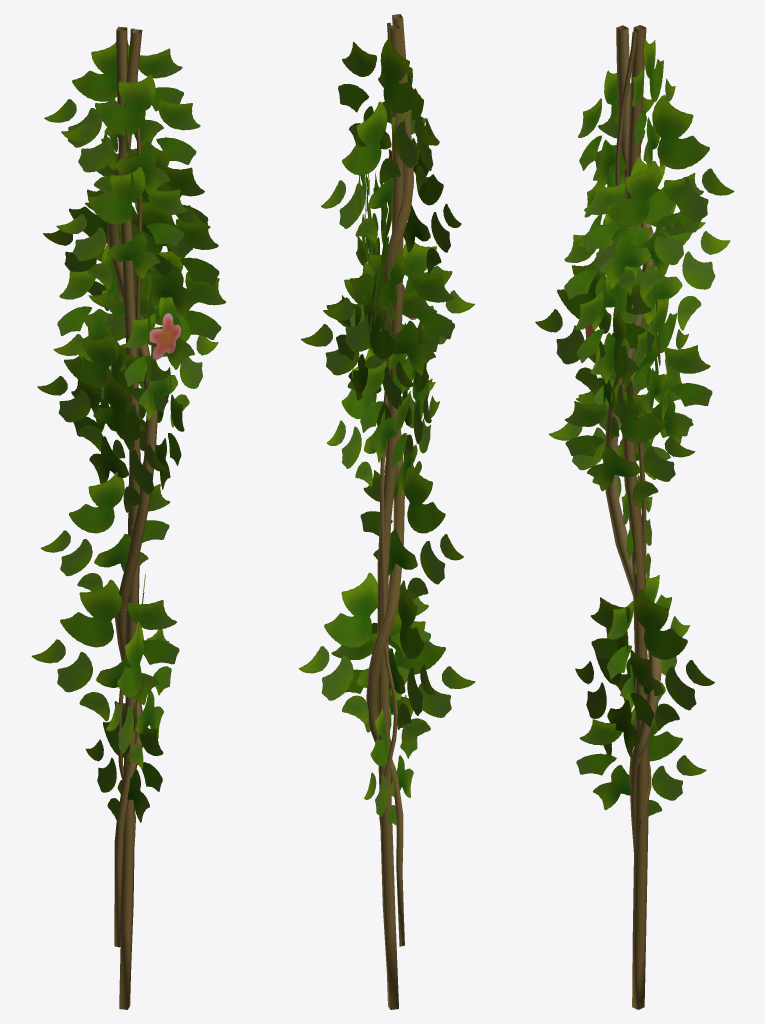
Rendered from P_IvyCoastalVine01.obj.
3 renders of one model, left to right at view 1: azimuth 30°, elevation 25°; view 2: azimuth 150°, elevation 25°; view 3: azimuth 270°, elevation 25°, orthographic.
Bounding box in the file's own units: 1.68 × 8 × 1.68.
